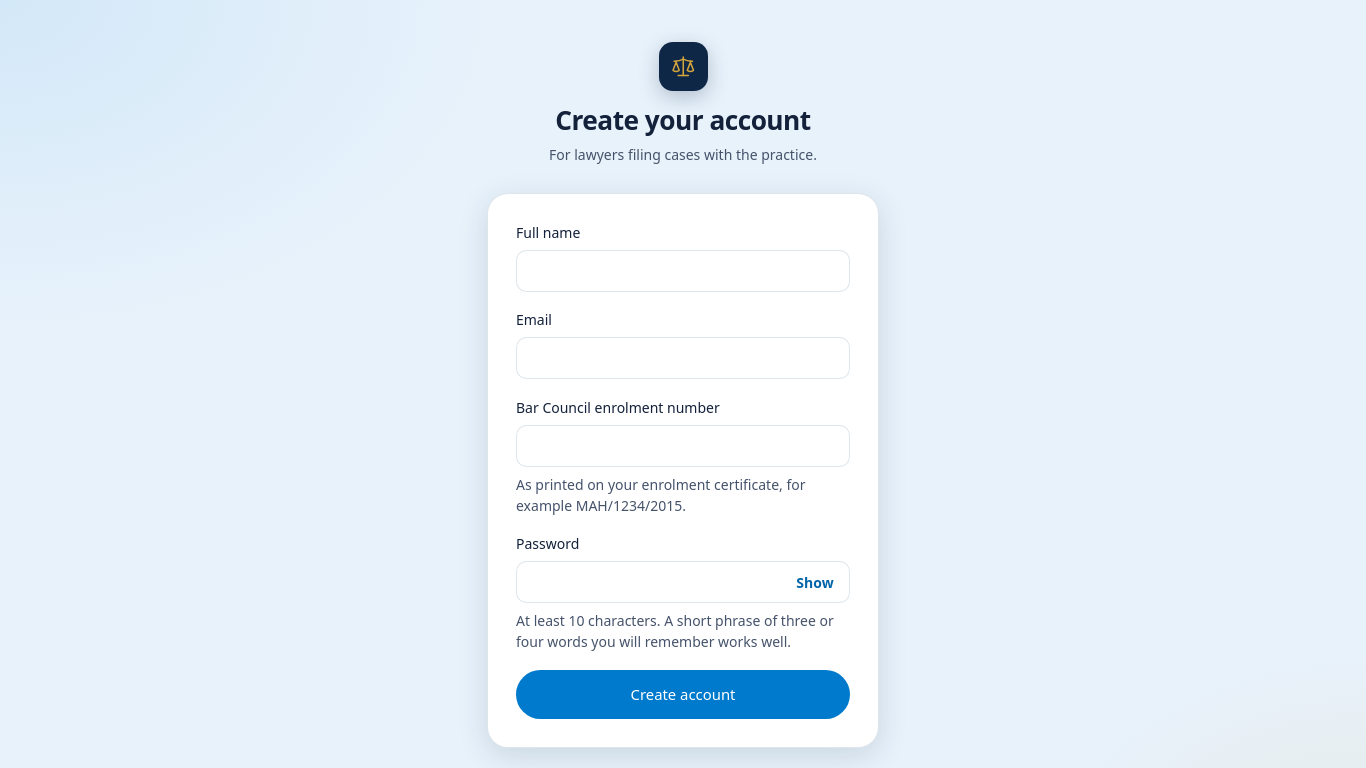
Scenario: RegisterPage › will not submit without the Bar Council number
In the field labelled "Full name": point(683, 270) [516,250,850,292], type "Priya Shah"
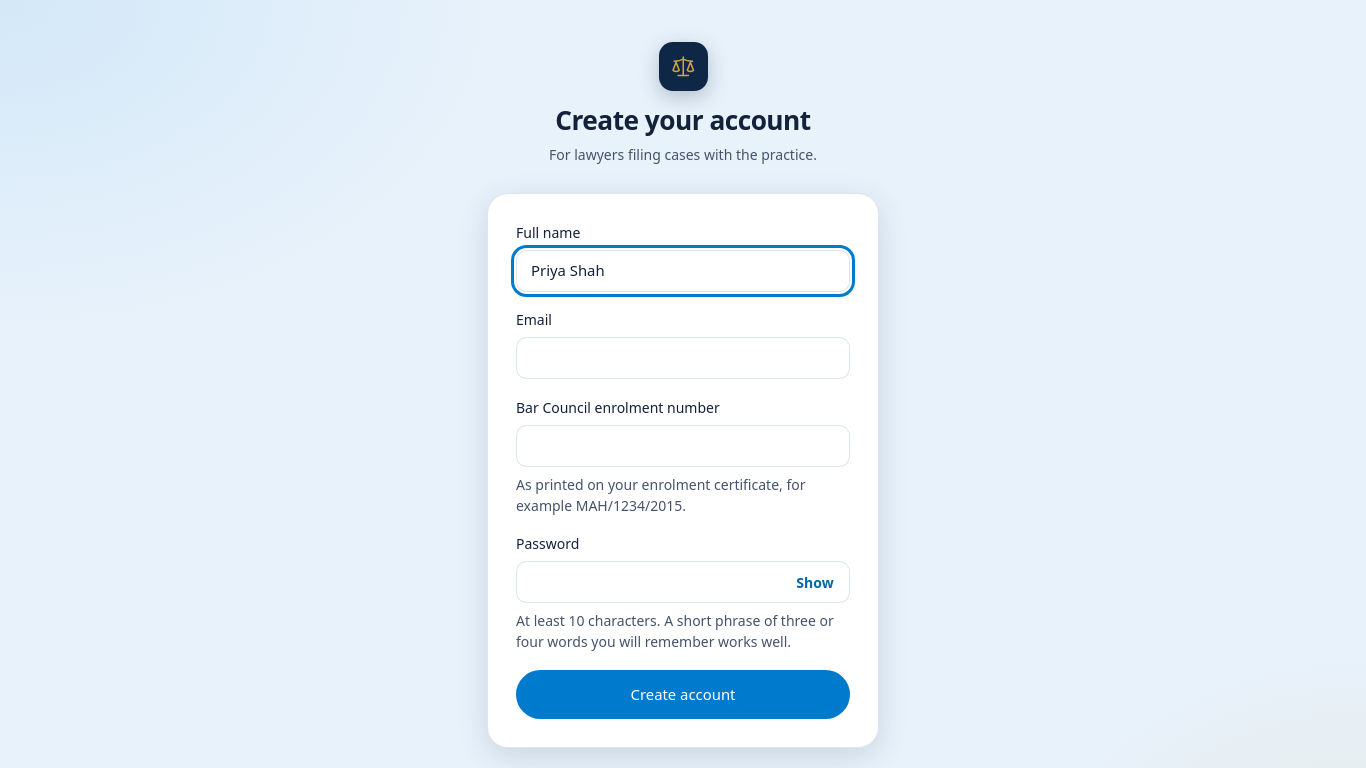
In the field labelled "Email": point(683, 358) [516,337,850,379], type "priya@example.com"
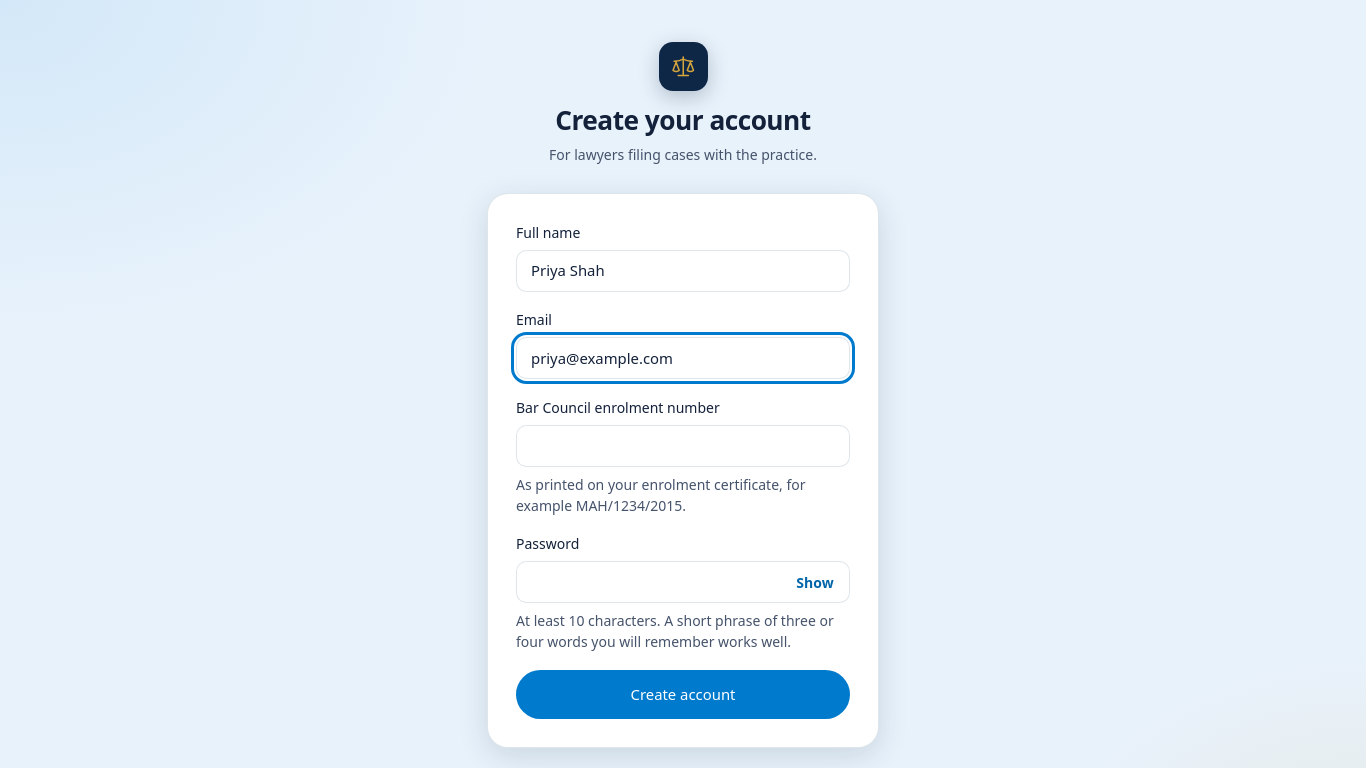
In the password field labelled "Password": point(683, 582) [516,561,850,603], type "blue river courtroom"
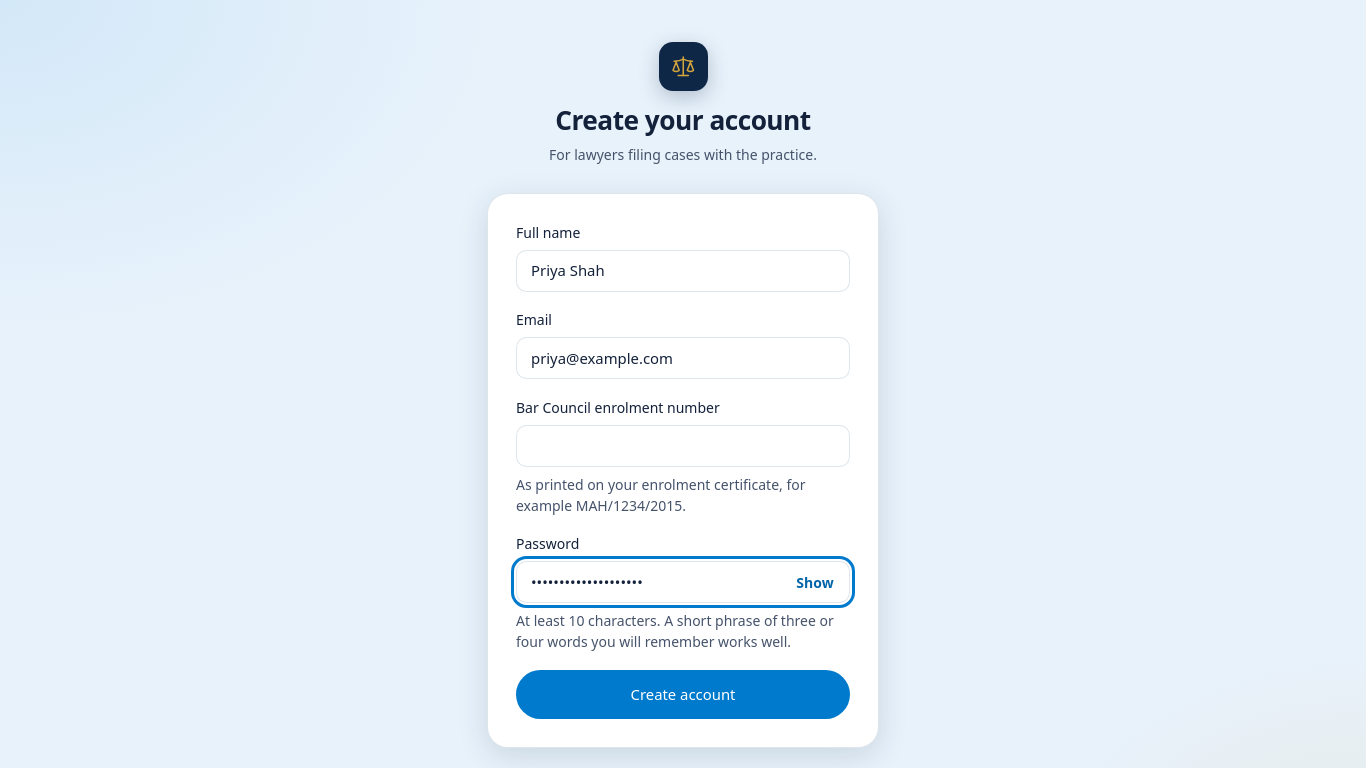
Click the button "Create account": point(683, 694) [516,670,850,718]
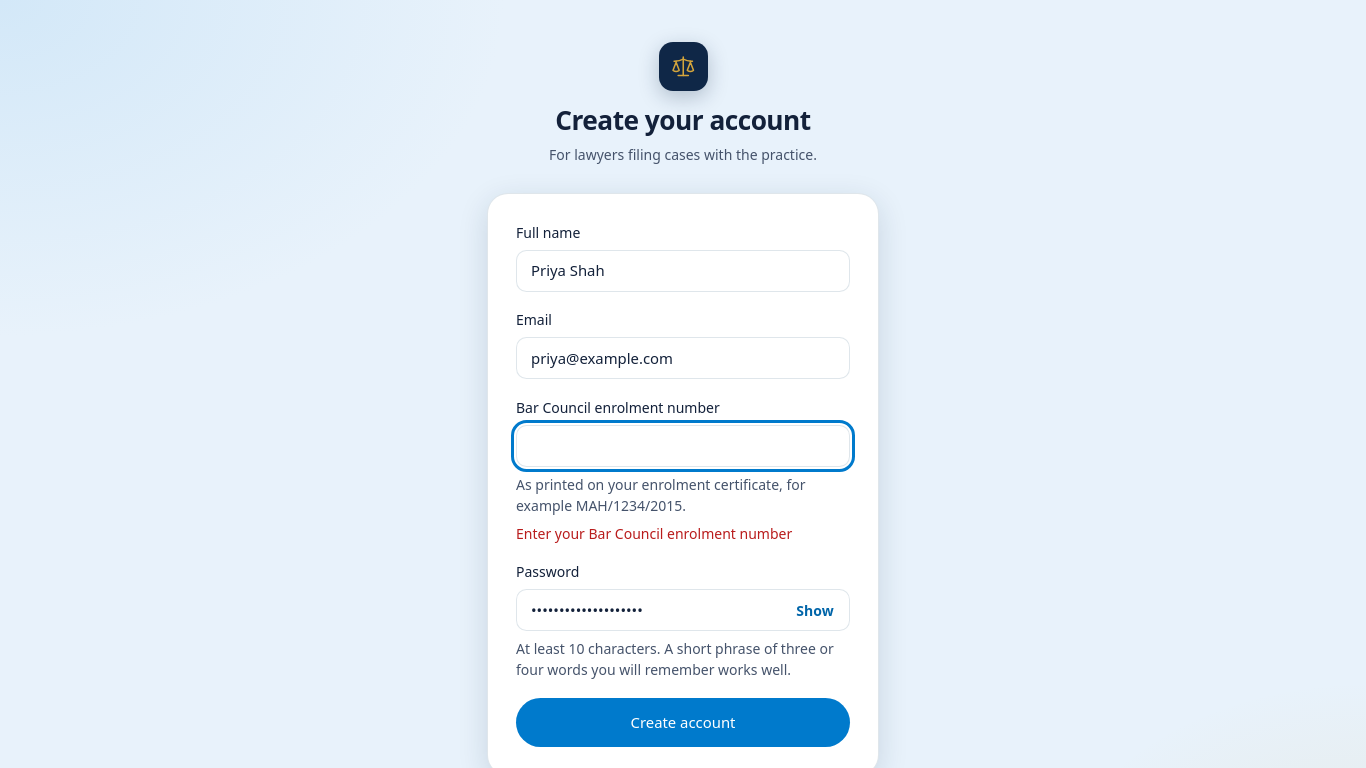
Now the text "Enter your Bar Council enrolment number" is shown, box [516,524,792,542]
